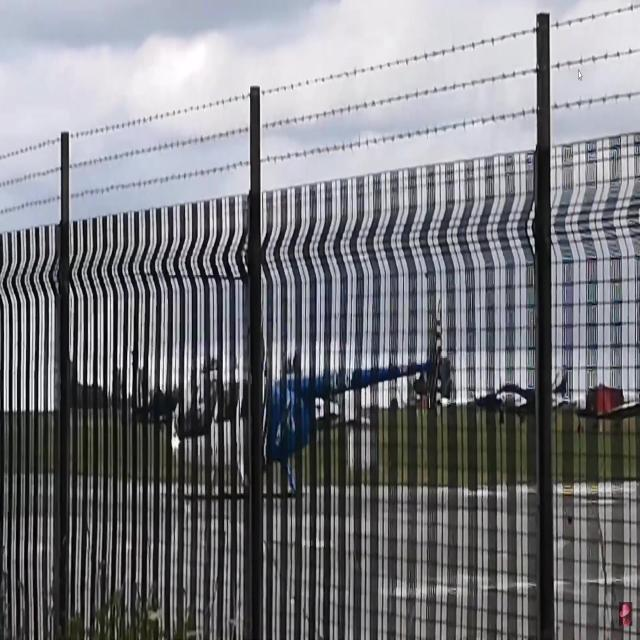CIV_HELO: (168, 316, 454, 500)
